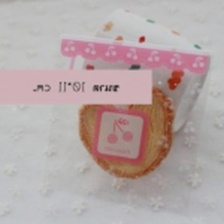snack: (35, 27, 216, 221)
